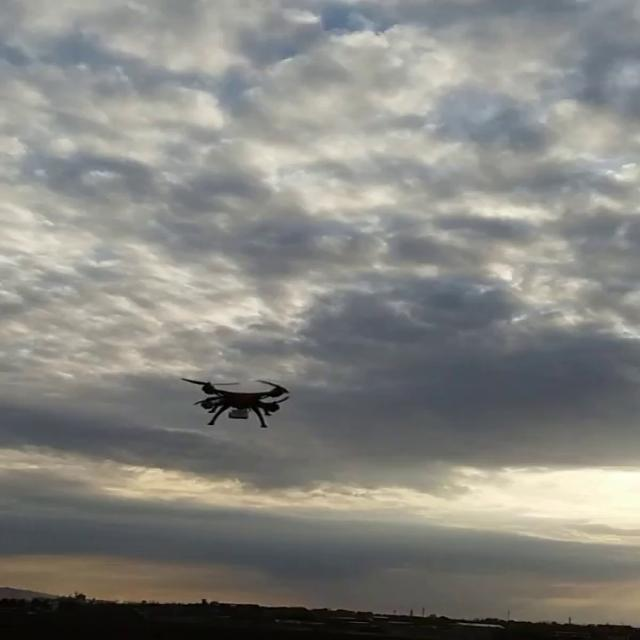drone: (172, 376, 296, 428)
